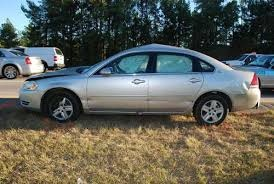Dent: (242, 81, 251, 92), (82, 95, 95, 102)
